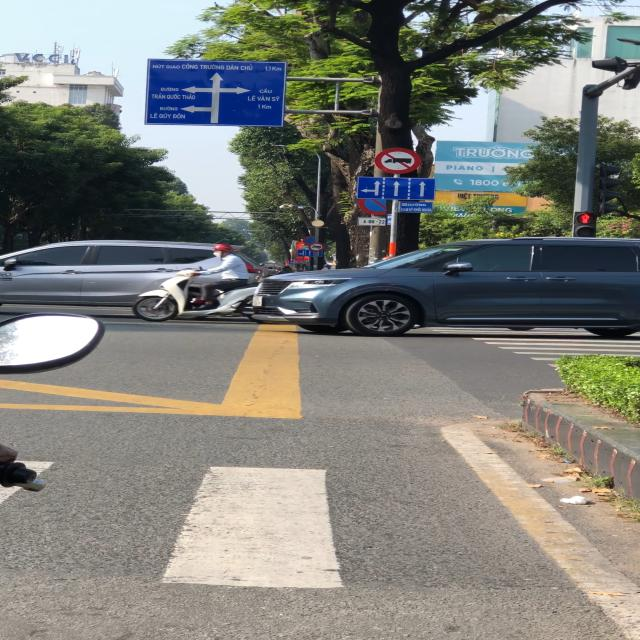Bien bao cam xe so-mi ro-mooc: (371, 144, 427, 176)
